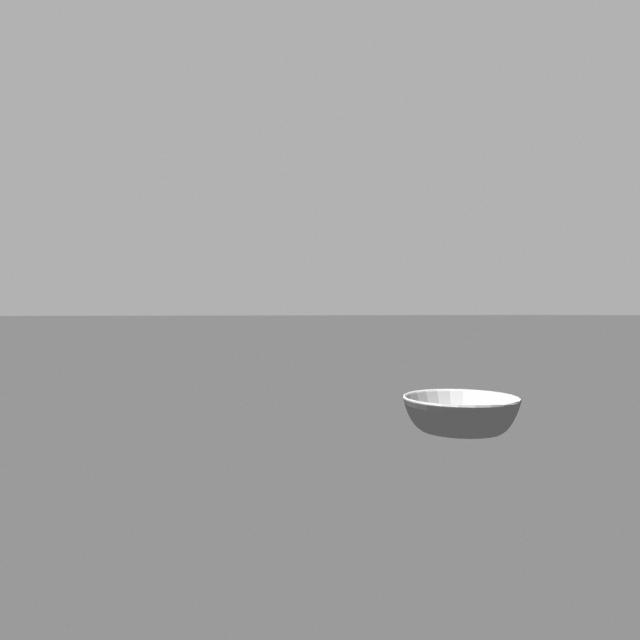bowl: (398, 374, 528, 450)
